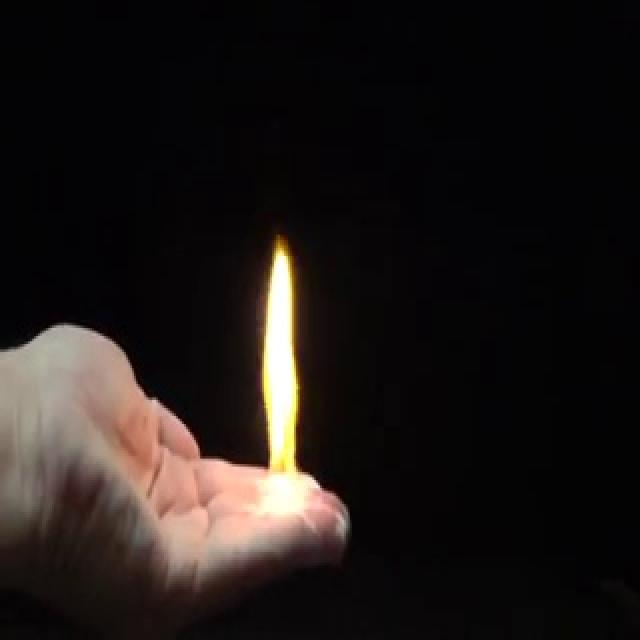fire: (251, 229, 312, 528)
